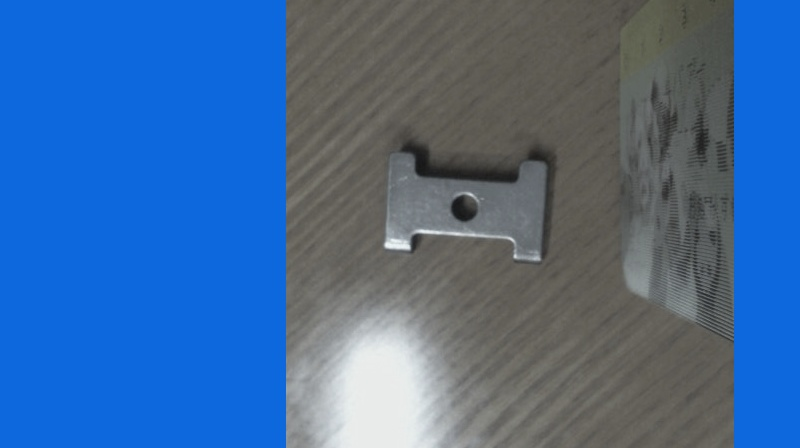O002: (381, 148, 558, 262)
